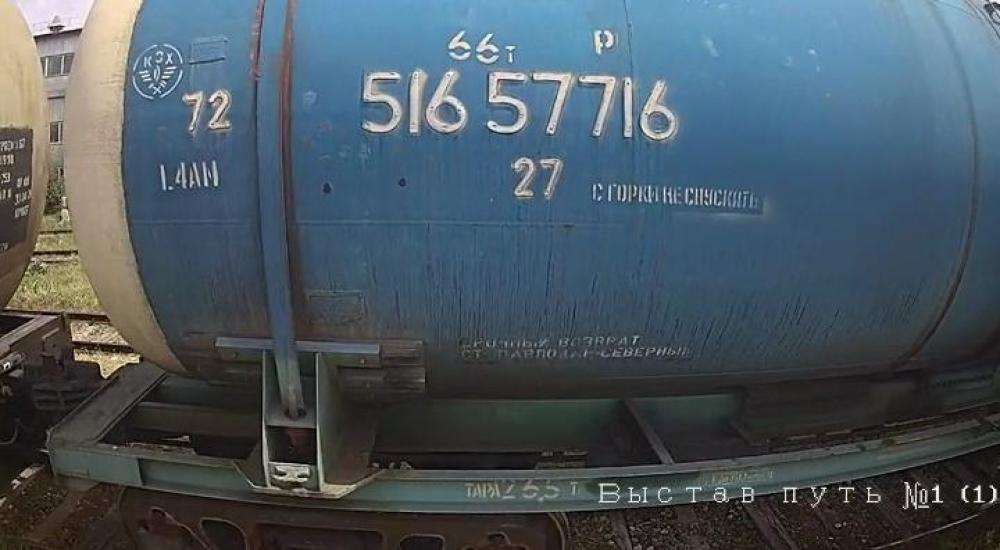Wagon-number: (355, 64, 680, 150)
